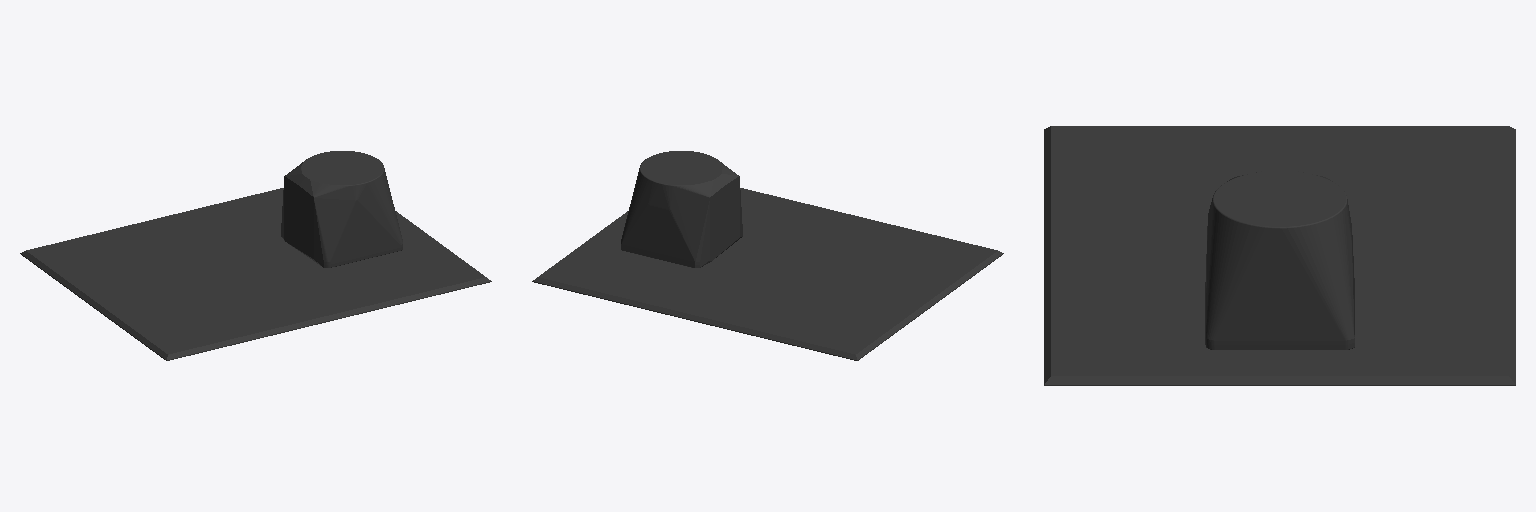
robot.urdf — fanuc_lrmate200id:
<?xml version="1.0" ?>
<!-- =================================================================================== -->
<!-- |    This document was autogenerated by xacro from lrmate200id.xacro              | -->
<!-- |    EDITING THIS FILE BY HAND IS NOT RECOMMENDED                                 | -->
<!-- =================================================================================== -->
<robot name="fanuc_lrmate200id" xmlns:xacro="http://ros.org/wiki/xacro">
  <link name="base_link">
    <visual>
      <origin rpy="0 0 0" xyz="0 0 0"/>
      <geometry>
        <mesh filename="package://fanuc_lrmate200id_support/meshes/lrmate200id/visual/base1.stl"/>
      </geometry>
      <material name="">
        <color rgba="0.278 0.278 0.278 1.0"/>
      </material>
    </visual>
    <collision>
      <origin rpy="0 0 0" xyz="0 0 0"/>
      <geometry>
        <mesh filename="package://fanuc_lrmate200id_support/meshes/lrmate200id/collision/base1.stl"/>
      </geometry>
    </collision>
  </link>
  <link name="link_1">
    <visual>
      <origin rpy="0 0 0" xyz="0 0 0"/>
      <geometry>
        <mesh filename="package://fanuc_lrmate200id_support/meshes/lrmate200id/visual/link_1.stl"/>
      </geometry>
      <material name="">
        <color rgba="0.96 0.76 0.13 1.0"/>
      </material>
    </visual>
    <collision>
      <origin rpy="0 0 0" xyz="0 0 0"/>
      <geometry>
        <mesh filename="package://fanuc_lrmate200id_support/meshes/lrmate200id/collision/link_1.stl"/>
      </geometry>
    </collision>
  </link>
  <link name="link_2">
    <visual>
      <origin rpy="0 0 0" xyz="0 0 0"/>
      <geometry>
        <mesh filename="package://fanuc_lrmate200id_support/meshes/lrmate200id/visual/link_2.stl"/>
      </geometry>
      <material name="">
        <color rgba="0.96 0.76 0.13 1.0"/>
      </material>
    </visual>
    <collision>
      <origin rpy="0 0 0" xyz="0 0 0"/>
      <geometry>
        <mesh filename="package://fanuc_lrmate200id_support/meshes/lrmate200id/collision/link_2.stl"/>
      </geometry>
    </collision>
  </link>
  <link name="link_3">
    <visual>
      <origin rpy="0 0 0" xyz="0 0 0"/>
      <geometry>
        <mesh filename="package://fanuc_lrmate200id_support/meshes/lrmate200id/visual/link_3.stl"/>
      </geometry>
      <material name="">
        <color rgba="0.96 0.76 0.13 1.0"/>
      </material>
    </visual>
    <collision>
      <origin rpy="0 0 0" xyz="0 0 0"/>
      <geometry>
        <mesh filename="package://fanuc_lrmate200id_support/meshes/lrmate200id/collision/link_3.stl"/>
      </geometry>
    </collision>
  </link>
  <link name="link_4">
    <visual>
      <origin rpy="0 0 0" xyz="0 0 0"/>
      <geometry>
        <mesh filename="package://fanuc_lrmate200id_support/meshes/lrmate200id/visual/link_4.stl"/>
      </geometry>
      <material name="">
        <color rgba="0.96 0.76 0.13 1.0"/>
      </material>
    </visual>
    <collision>
      <origin rpy="0 0 0" xyz="0 0 0"/>
      <geometry>
        <mesh filename="package://fanuc_lrmate200id_support/meshes/lrmate200id/collision/link_4.stl"/>
      </geometry>
    </collision>
  </link>
  <link name="link_5">
    <visual>
      <origin rpy="0 0 0" xyz="0 0 0"/>
      <geometry>
        <mesh filename="package://fanuc_lrmate200id_support/meshes/lrmate200id/visual/link_5.stl"/>
      </geometry>
      <material name="">
        <color rgba="0.96 0.76 0.13 1.0"/>
      </material>
    </visual>
    <collision>
      <origin rpy="0 0 0" xyz="0 0 0"/>
      <geometry>
        <mesh filename="package://fanuc_lrmate200id_support/meshes/lrmate200id/collision/link_5.stl"/>
      </geometry>
    </collision>
  </link>
  <link name="link_6">
    <visual>
      <origin rpy="0 0 0" xyz="-0.16250 -0.03750 -0.03750"/>
      <geometry>
        <mesh filename="package://fanuc_lrmate200id_support/meshes/lrmate200id/visual/link_63.stl"/>
      </geometry>
      <material name="">
        <color rgba="0.15 0.15 0.15 1.0"/>
      </material>
    </visual>
    <collision>
      <origin rpy="0 0 0" xyz="-0.16250 -0.03750 -0.03750"/>
      <geometry>
        <mesh filename="package://fanuc_lrmate200id_support/meshes/lrmate200id/collision/link_63.stl"/>
      </geometry>
    </collision>
  </link>
  <link name="tool0"/>
  <joint name="joint_1" type="revolute">
    <origin rpy="0 0 0" xyz="0 0 0.330"/>
    <parent link="base_link"/>
    <child link="link_1"/>
    <axis xyz="0 0 1"/>
    <limit effort="0" lower="-2.965" upper="2.965" velocity="7.85"/>
  </joint>
  <joint name="joint_2" type="revolute">
    <origin rpy="0 0 0" xyz="0.050 0 0"/>
    <parent link="link_1"/>
    <child link="link_2"/>
    <axis xyz="0 1 0"/>
    <limit effort="0" lower="-1.745329" upper="2.530727" velocity="6.63"/>
  </joint>
  <joint name="joint_3" type="revolute">
    <origin rpy="0 0 0" xyz="0 0 0.330"/>
    <parent link="link_2"/>
    <child link="link_3"/>
    <axis xyz="0 -1 0"/>
    <limit effort="0" lower="-2.450966" upper="4.886922" velocity="9.08"/>
  </joint>
  <joint name="joint_4" type="revolute">
    <origin rpy="0 0 0" xyz="0 0 0.035"/>
    <parent link="link_3"/>
    <child link="link_4"/>
    <axis xyz="-1 0 0"/>
    <limit effort="0" lower="-3.315" upper="3.315" velocity="9.60"/>
  </joint>
  <joint name="joint_5" type="revolute">
    <origin rpy="0 0 0" xyz="0.335 0 0"/>
    <parent link="link_4"/>
    <child link="link_5"/>
    <axis xyz="0 -1 0"/>
    <limit effort="0" lower="-2.18" upper="2.18" velocity="9.51"/>
  </joint>
  <joint name="joint_6" type="revolute">
    <origin rpy="0 0 0" xyz="0.237 0 0"/>
    <parent link="link_5"/>
    <child link="link_6"/>
    <axis xyz="1 0 0"/>
    <limit effort="0" lower="-6.285" upper="6.285" velocity="17.45"/>
  </joint>
  <joint name="joint_6-tool0" type="fixed">
    <origin rpy="3.1415926535 -1.570796327 0" xyz="0 0 0"/>
    <parent link="link_6"/>
    <child link="tool0"/>
  </joint>
  <link name="base"/>
  <joint name="base_link-base" type="fixed">
    <origin rpy="0 0 0" xyz="0 0 0.330"/>
    <parent link="base_link"/>
    <child link="base"/>
  </joint>
</robot>

--- Render facts (derived) ---
3 views of the same robot in one strip: view 1: azimuth 30°, elevation 25°; view 2: azimuth 150°, elevation 25°; view 3: azimuth 270°, elevation 25° (orthographic).
Robot: fanuc_lrmate200id — 9 links, 8 joints (6 revolute, 2 fixed); root link base_link; default pose: every joint at zero.
Links seen in each view (by area): view 1: base_link; view 2: base_link; view 3: base_link.
Link boxes in pixels (x1,y1,x2,y2): base_link: (20,151,491,360); base_link: (532,151,1003,360); base_link: (1044,126,1515,385).
Size in the robot's own frame: 0.77 by 0.6 by 0.179 metres.
1 mesh visuals loaded from 7 distinct referenced files (1 binary STL); not drawn: 6 (reference not matched to a file when rendering).